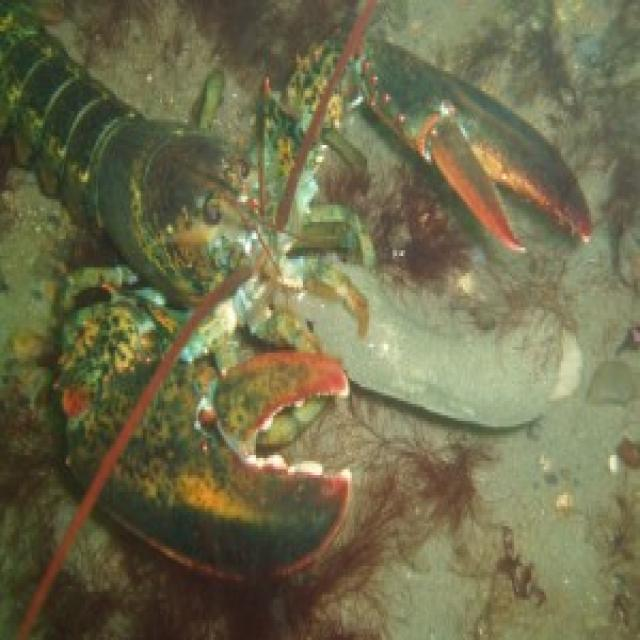lobsters: (0, 12, 640, 584)
